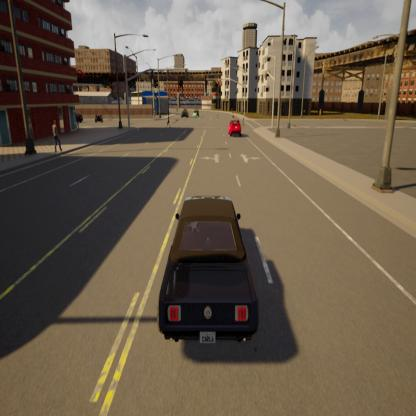Cars: (157, 193, 257, 356), (228, 118, 244, 142)
Pedestrian: (50, 111, 62, 156), (165, 109, 171, 126)
